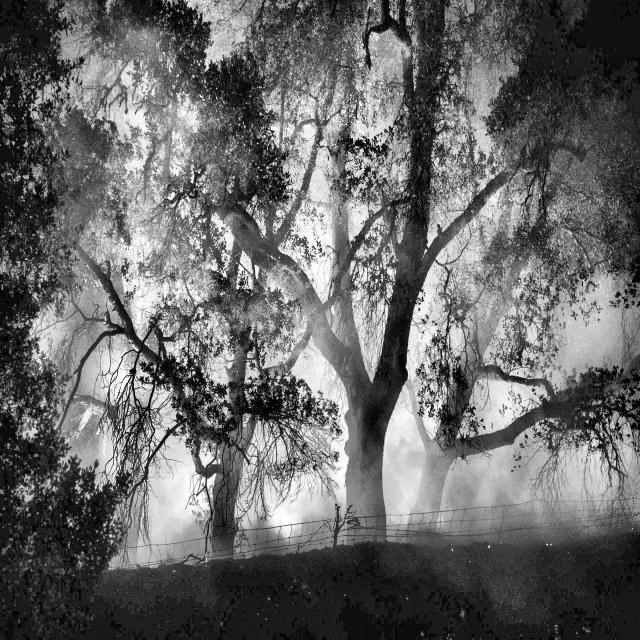fire: (137, 336, 488, 546)
